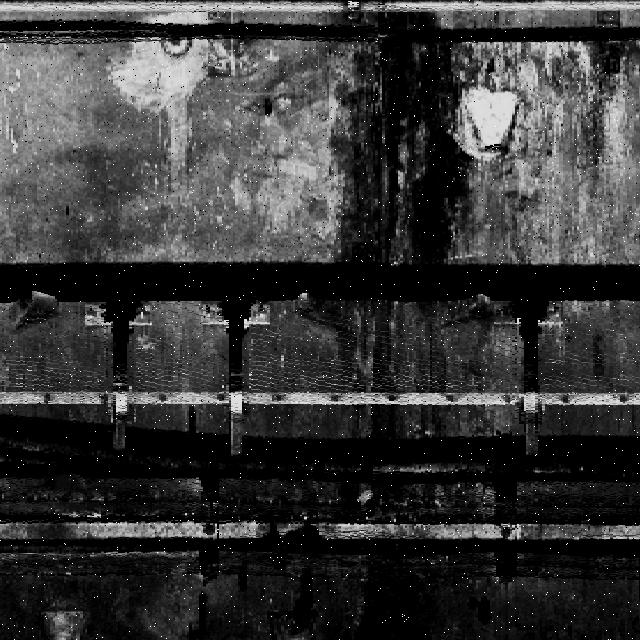leakage: (304, 0, 483, 634)
